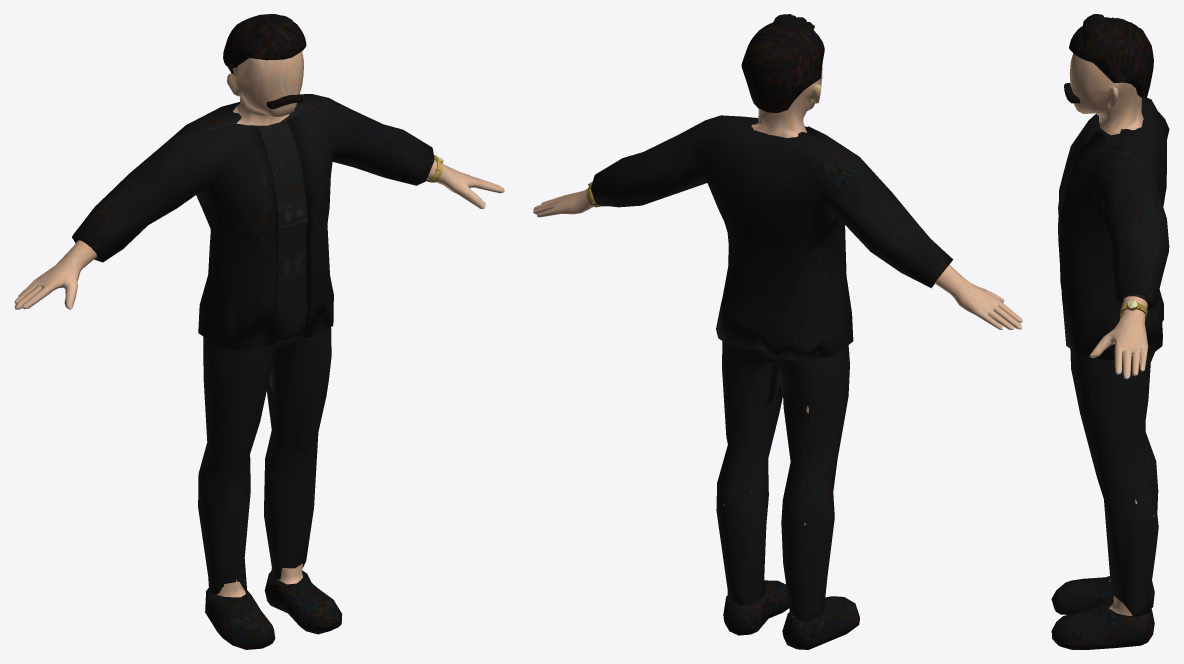
Rendered from npc_x_marat.glb.
3 renders of one model, left to right at view 1: azimuth 30°, elevation 25°; view 2: azimuth 150°, elevation 25°; view 3: azimuth 270°, elevation 25°, orthographic.
Parts seen in each view (by area): view 1: Human; view 2: Human; view 3: Human.
Part boxes in pixels (x1=…): Human: x1=14, y1=14, x2=504, y2=649; Human: x1=533, y1=14, x2=1022, y2=649; Human: x1=1051, y1=14, x2=1169, y2=649.
Bounding box in the file's own units: 1.55 × 1.85 × 0.325.
Materials: 1 (1 with a texture image).
